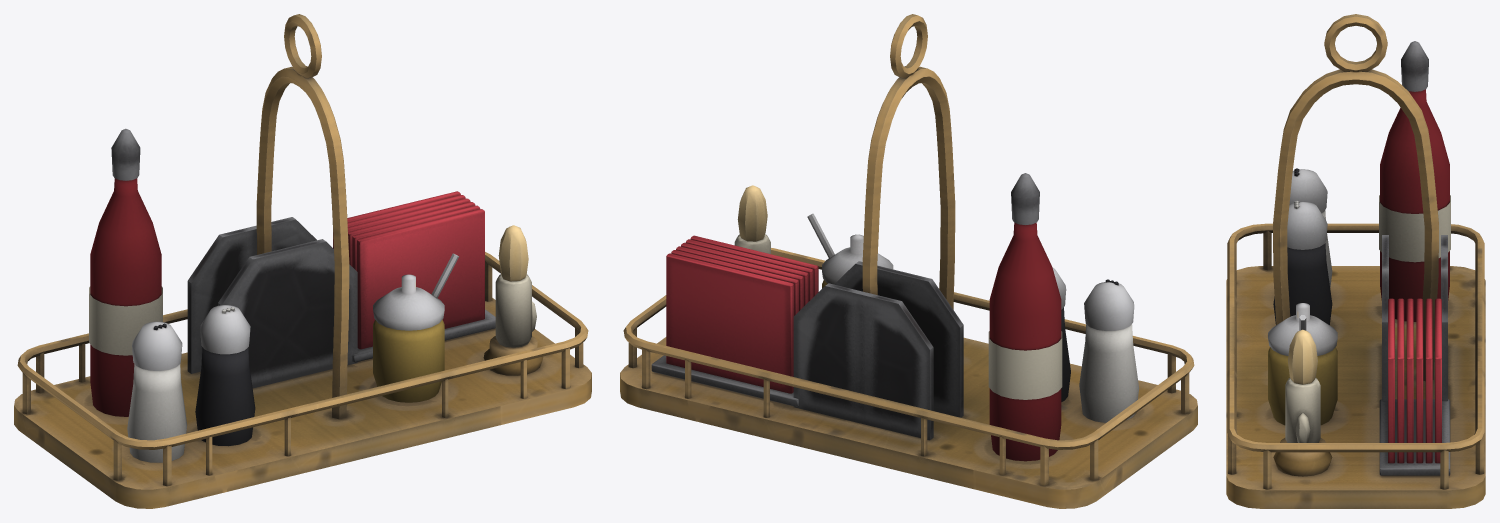
Rendered from CondimentCaddy.fbx.
3 renders of one model, left to right at view 1: azimuth 30°, elevation 25°; view 2: azimuth 150°, elevation 25°; view 3: azimuth 270°, elevation 25°, orthographic. The views are drawn at different scales.
Parts seen in each view (by area): view 1: CondimentCaddy_Main, CondimentCaddy_Glow; view 2: CondimentCaddy_Main, CondimentCaddy_Glow; view 3: CondimentCaddy_Main, CondimentCaddy_Glow.
Boxes of the visible parts, x1,y1,x2,y2 form: CondimentCaddy_Main: (14, 14, 591, 508); CondimentCaddy_Glow: (498, 225, 528, 281); CondimentCaddy_Main: (620, 14, 1197, 508); CondimentCaddy_Glow: (737, 185, 767, 241); CondimentCaddy_Main: (1226, 14, 1485, 508); CondimentCaddy_Glow: (1288, 329, 1317, 384).
Size of the model in its own units: 90 by 71.37 by 44.
